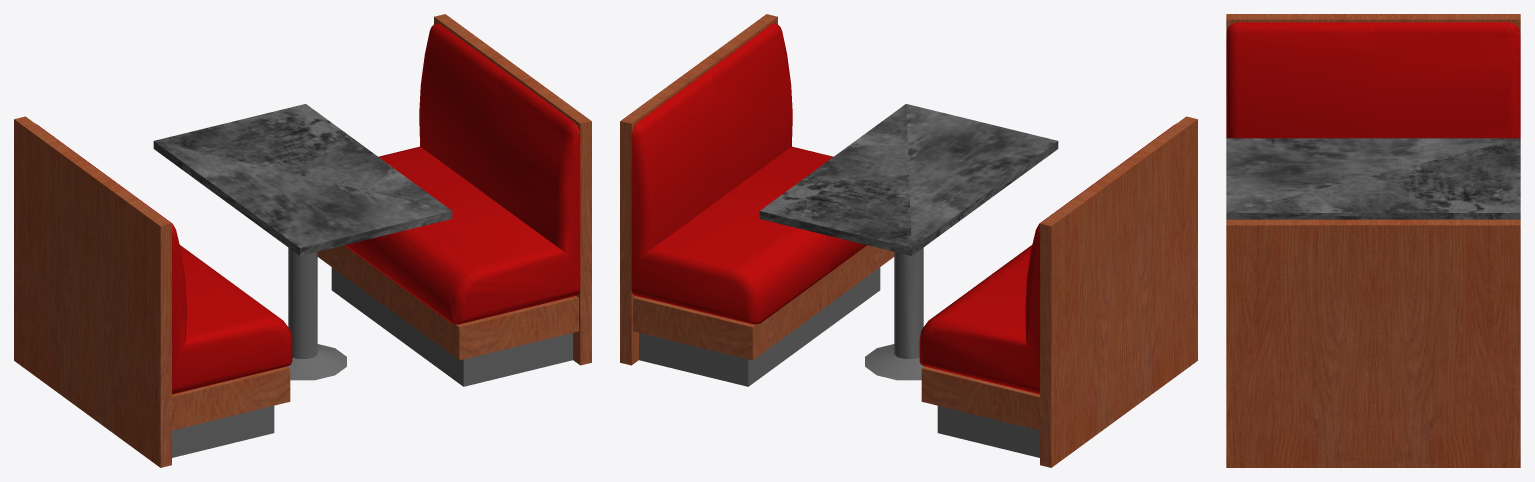
Rendered from kt_booths_03.fbx.
3 views of the same model, side by side, from view 1: azimuth 30°, elevation 25°; view 2: azimuth 150°, elevation 25°; view 3: azimuth 270°, elevation 25° (orthographic).
Parts seen in each view (by area): view 1: kt_booths_03_LOD0; view 2: kt_booths_03_LOD0; view 3: kt_booths_03_LOD0.
Part boxes in pixels (x1,y1,x2,y2): kt_booths_03_LOD0: (14,14,591,467); kt_booths_03_LOD0: (620,14,1197,467); kt_booths_03_LOD0: (1226,14,1520,467).
Size of what is drawn, in the model's own units: 1.7 by 0.91 by 1.
1 material, 1 textured.
